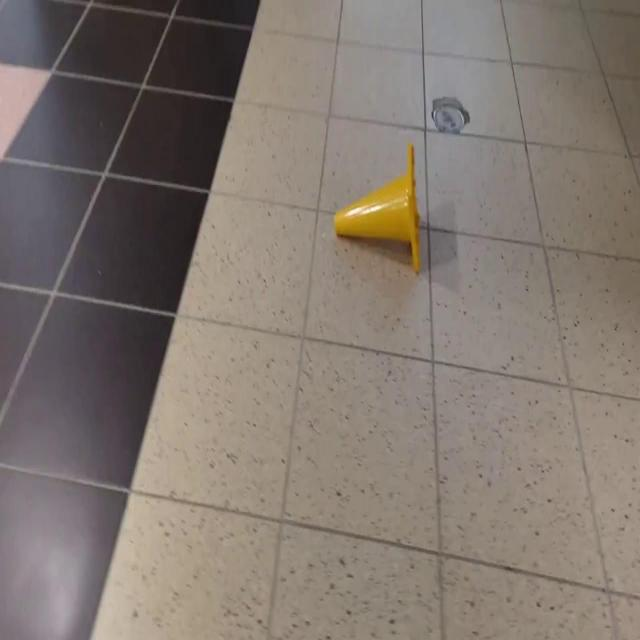frc_cone: (332, 143, 423, 274)
